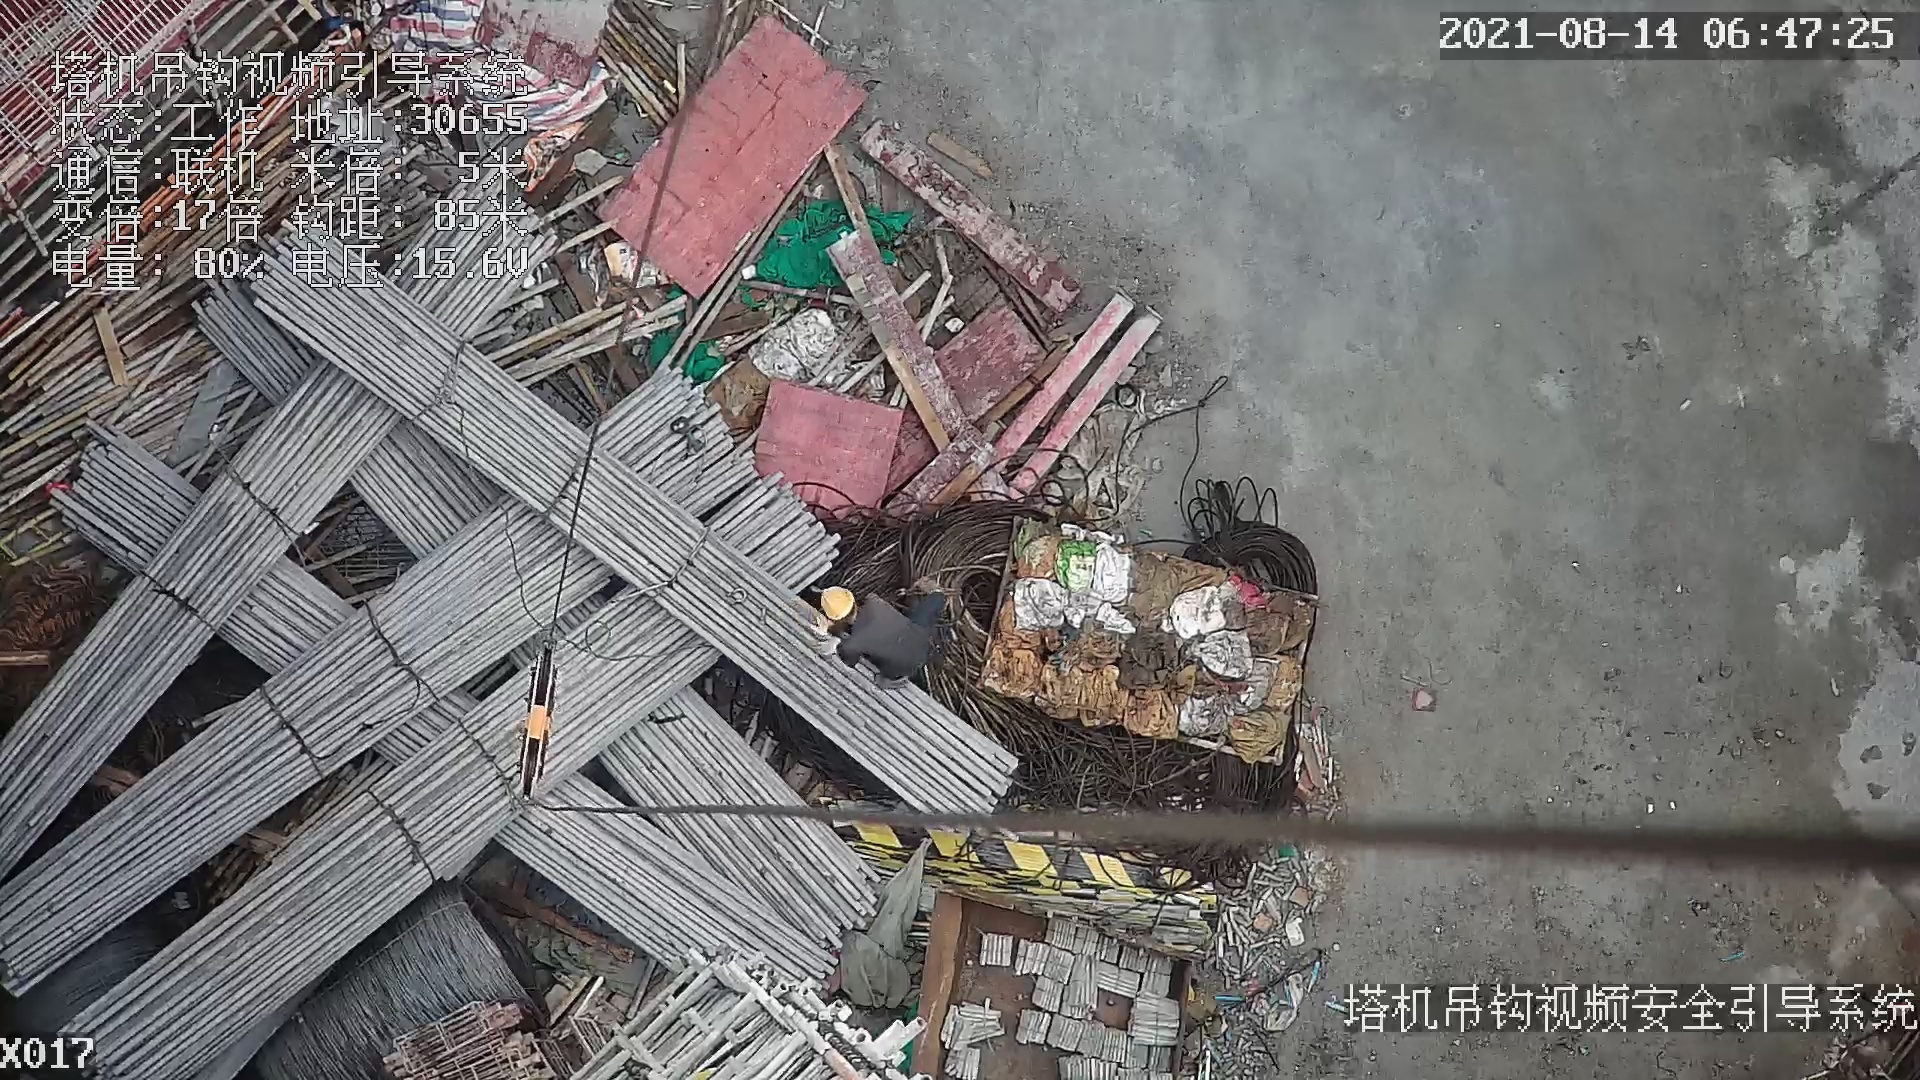board: (574, 9, 869, 294)
helmet: (818, 582, 851, 623)
hook: (519, 636, 555, 818)
person: (794, 572, 953, 699)
